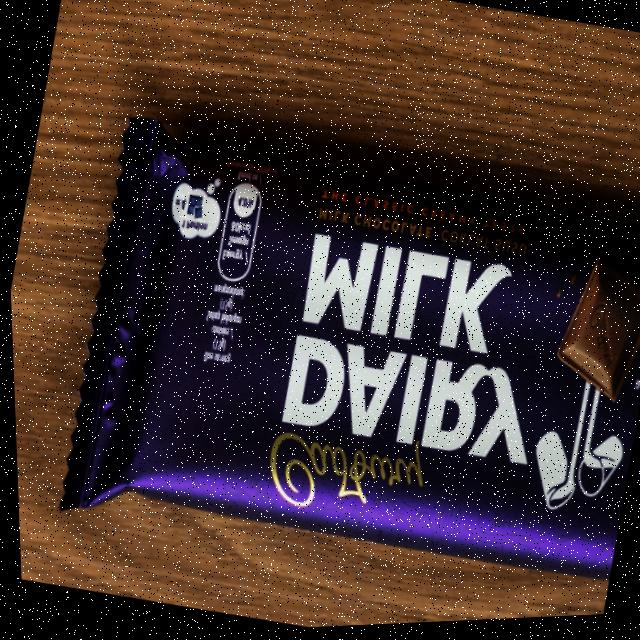cadbury: (40, 105, 640, 624)
